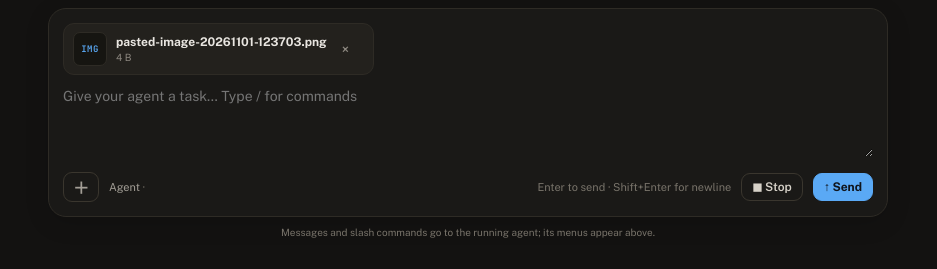
composer attachments on the terminal transport › a pasted screenshot is uploaded under a pasteable name and sent as a path ahead of the text
Type "What is wrong here?" into the text box with placeholder "Give your agent a task… Type / for commands" at x=468, y=121, box x1=63 y1=85 x2=873 y2=157
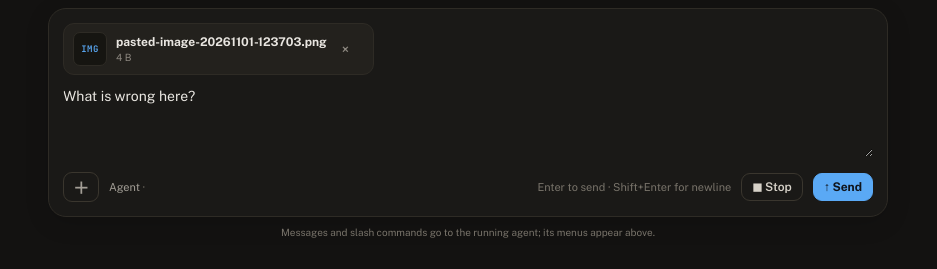
Submit the form
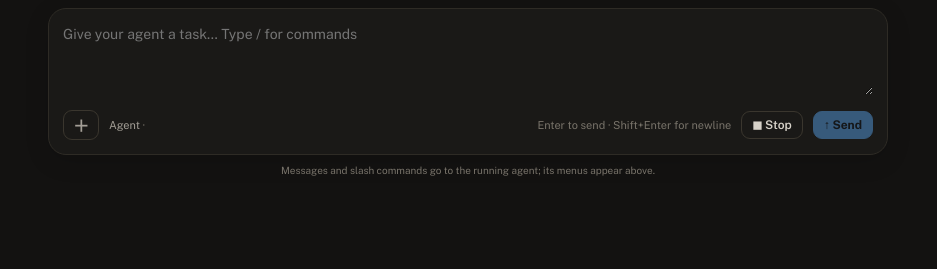
Now the text box with placeholder "Give your agent a task… Type / for commands" is empty, box x1=63 y1=23 x2=873 y2=95
